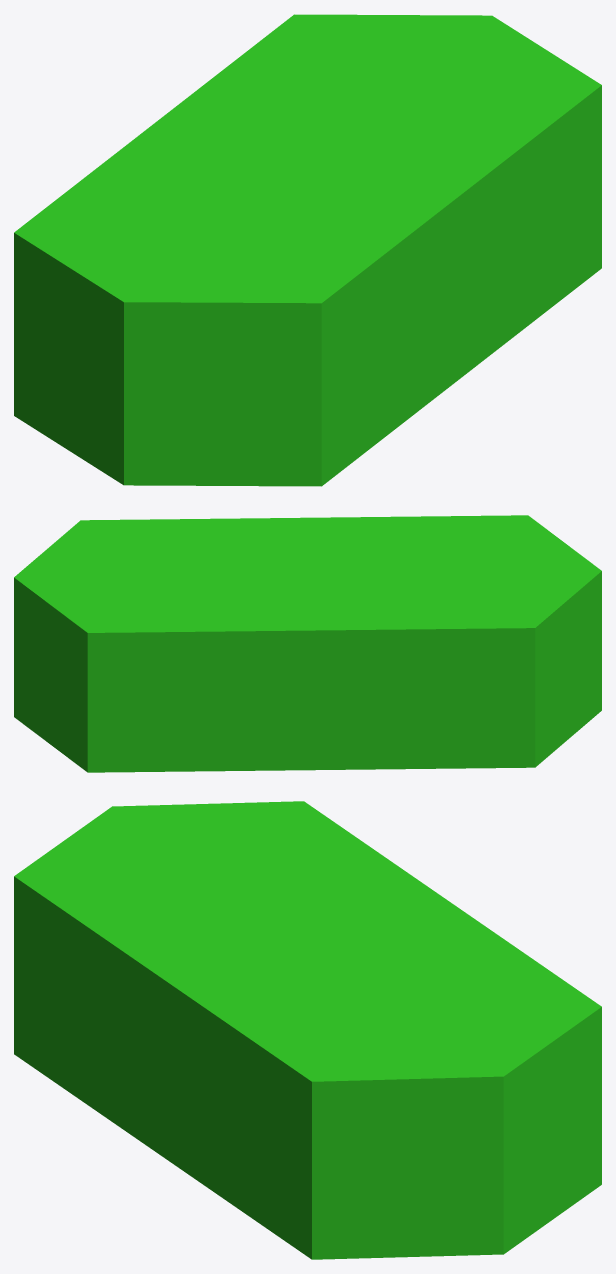
Rendered from NormalContent.fbx.
The picture shows the model from 3 angles, top to bottom: view 1: azimuth 30°, elevation 25°; view 2: azimuth 150°, elevation 25°; view 3: azimuth 270°, elevation 25°; orthographic projection. The views are drawn at different scales.
Visible parts, largest first — view 1: Model; view 2: Model; view 3: Model.
Boxes of the visible parts, x1,y1,x2,y2 form: Model: [14, 14, 601, 486]; Model: [14, 515, 601, 772]; Model: [14, 801, 601, 1259].
Size of what is drawn, in the model's own units: 1.04 by 0.308 by 0.9223.
